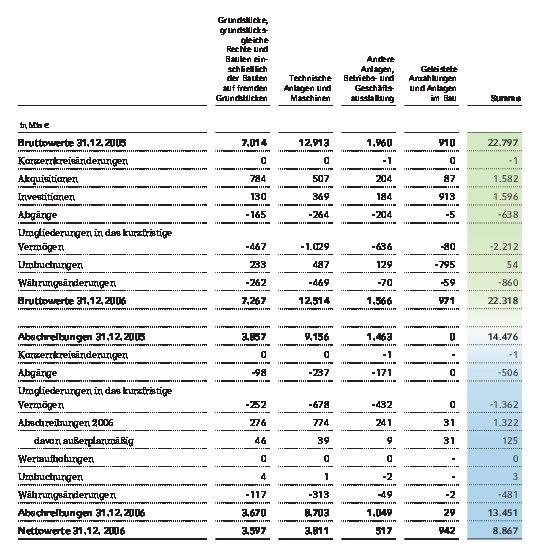table: (0, 0, 552, 556)
